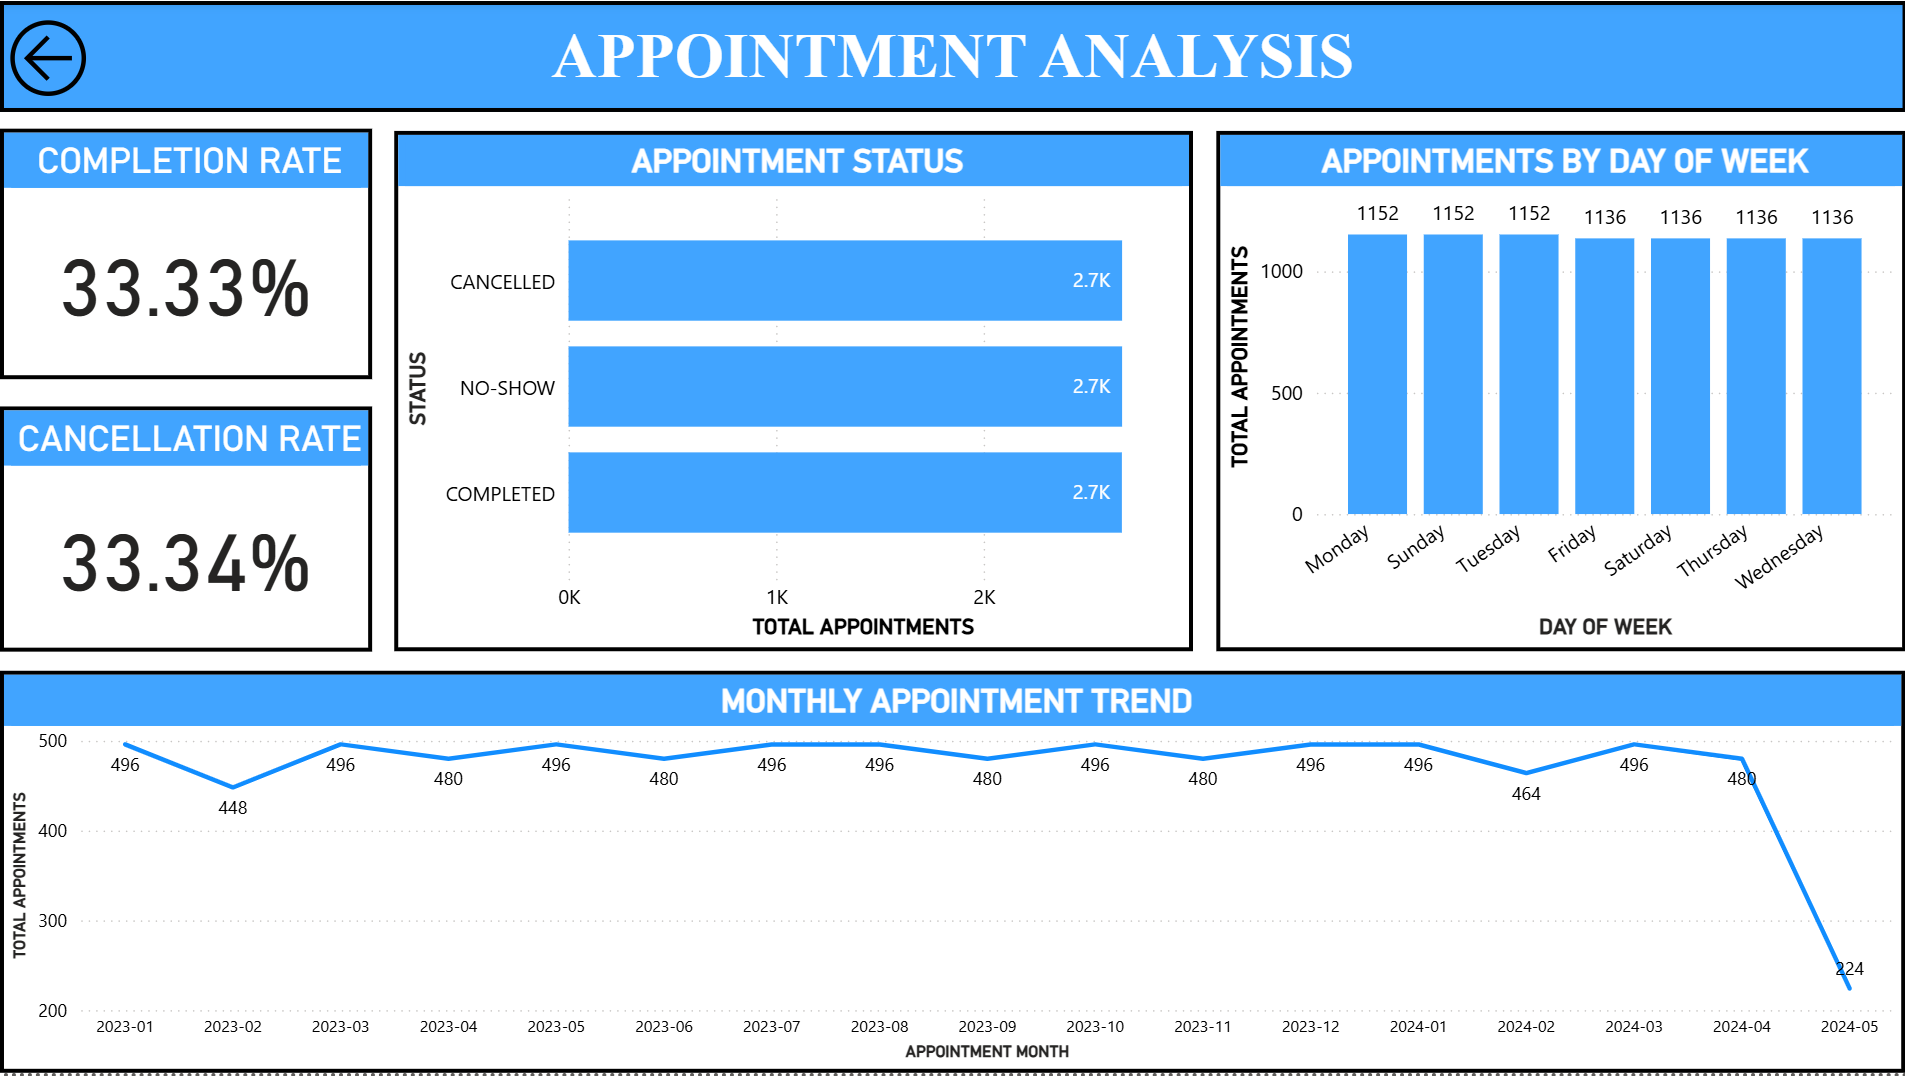

This screenshot's page, from the dashboard's own definition file:
{"tool":"powerbi","page":{"name":"APPOINTMENT ANALYSIS","canvas":[1280,720],"ordinal":4},"visuals":[{"type":"textbox","box":[0,0,1280.7,74.6],"z":0},{"type":"clusteredColumnChart","title":"APPOINTMENTS BY DAY OF WEEK","fields":{"Category":["APPOINTMENTS BY DAY OF WEEK.DAY_OF_WEEK"],"Y":["Sum(APPOINTMENTS BY DAY OF WEEK.TOTAL_APPOINTMENTS)"]},"box":[817.4,87.4,463.3,349.4],"z":1000},{"type":"clusteredBarChart","title":"APPOINTMENT STATUS","fields":{"Category":["APPOINTMENT STATUS.STATUS"],"Y":["Sum(APPOINTMENT STATUS.TOTAL_APPOINTMENTS)"]},"box":[265.2,87.4,536.6,349.4],"z":2000},{"type":"lineChart","title":"MONTHLY APPOINTMENT TREND","fields":{"Y":["Sum(MONTHLY APPOINTMENTS.TOTAL_APPOINTMENTS)"],"Category":["MONTHLY APPOINTMENTS.APPOINTMENT_MONTH"]},"box":[0,450,1280,270],"z":3000},{"type":"card","title":"COMPLETION RATE","fields":{"Values":["Min(Query1.COMPLITION_RATE_PERCENT)"]},"box":[0,86.4,250,168.2],"z":4000},{"type":"card","title":"CANCELLATION RATE","fields":{"Values":["Min(CANCELLATION RATE.CANCELLATION_RATE_PERCENT)"]},"box":[0,271.8,250,164.5],"z":5000},{"type":"actionButton","box":[0,6,84.3,64.7],"z":5001}]}

Visuals, with their boxes in screenshot pixels (x1, y1, x2, y2), scaled from the page's 1280x720 canvas onto the 1905x1076 screenshot:
textbox: bbox=[0, 0, 1904, 111]
"APPOINTMENTS BY DAY OF WEEK" clusteredColumnChart: bbox=[1217, 131, 1904, 653]
"APPOINTMENT STATUS" clusteredBarChart: bbox=[395, 131, 1193, 653]
"MONTHLY APPOINTMENT TREND" lineChart: bbox=[0, 672, 1904, 1075]
"COMPLETION RATE" card: bbox=[0, 129, 372, 380]
"CANCELLATION RATE" card: bbox=[0, 406, 372, 652]
actionButton: bbox=[0, 9, 125, 106]
